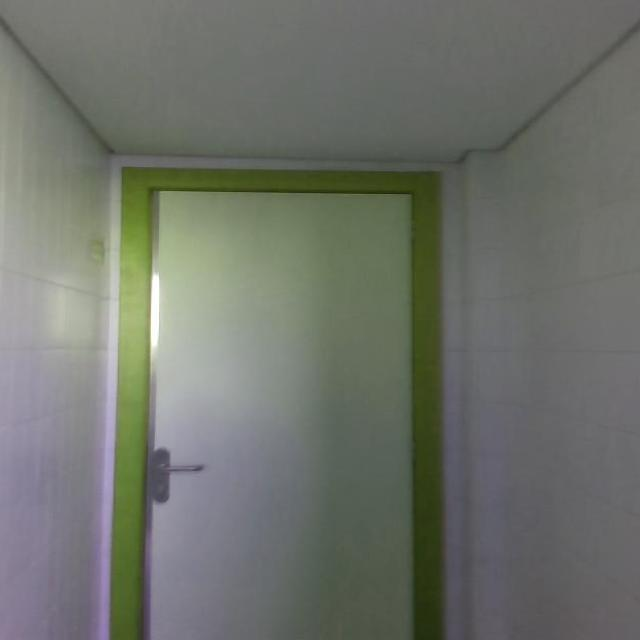door: (141, 183, 418, 639)
